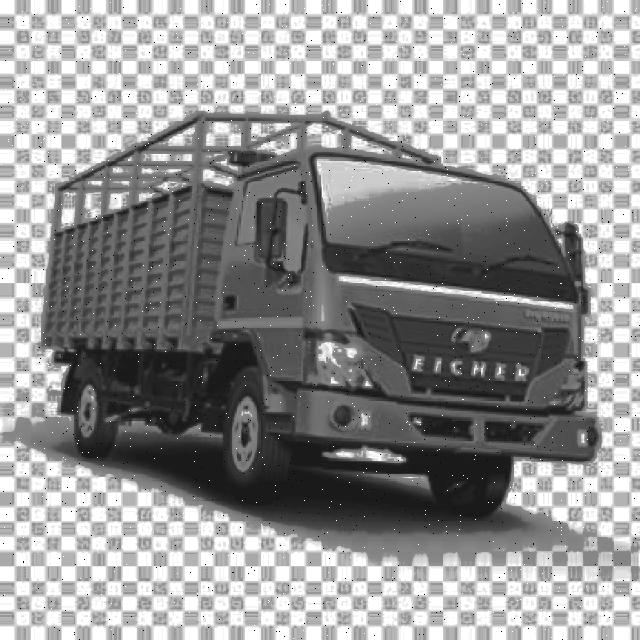HCV: (31, 135, 592, 494)
